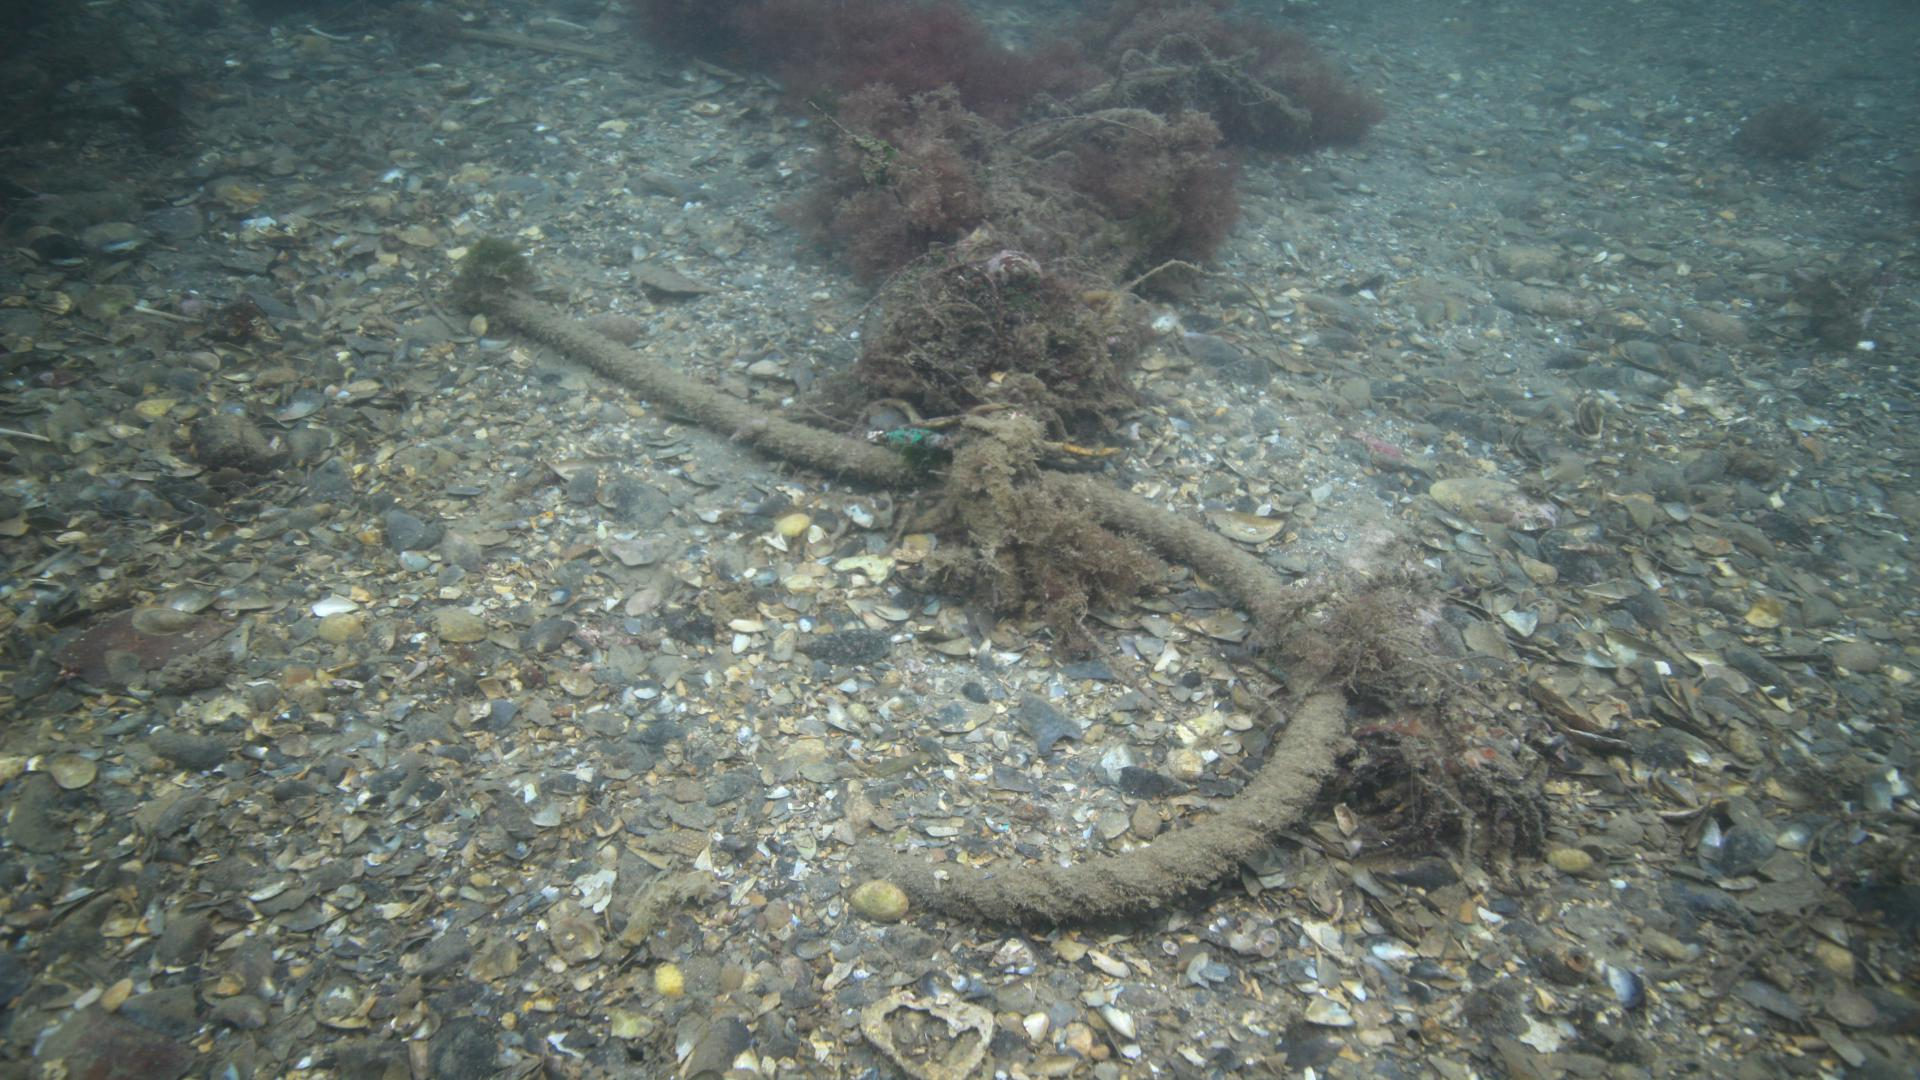rope: (492, 262, 1358, 927)
